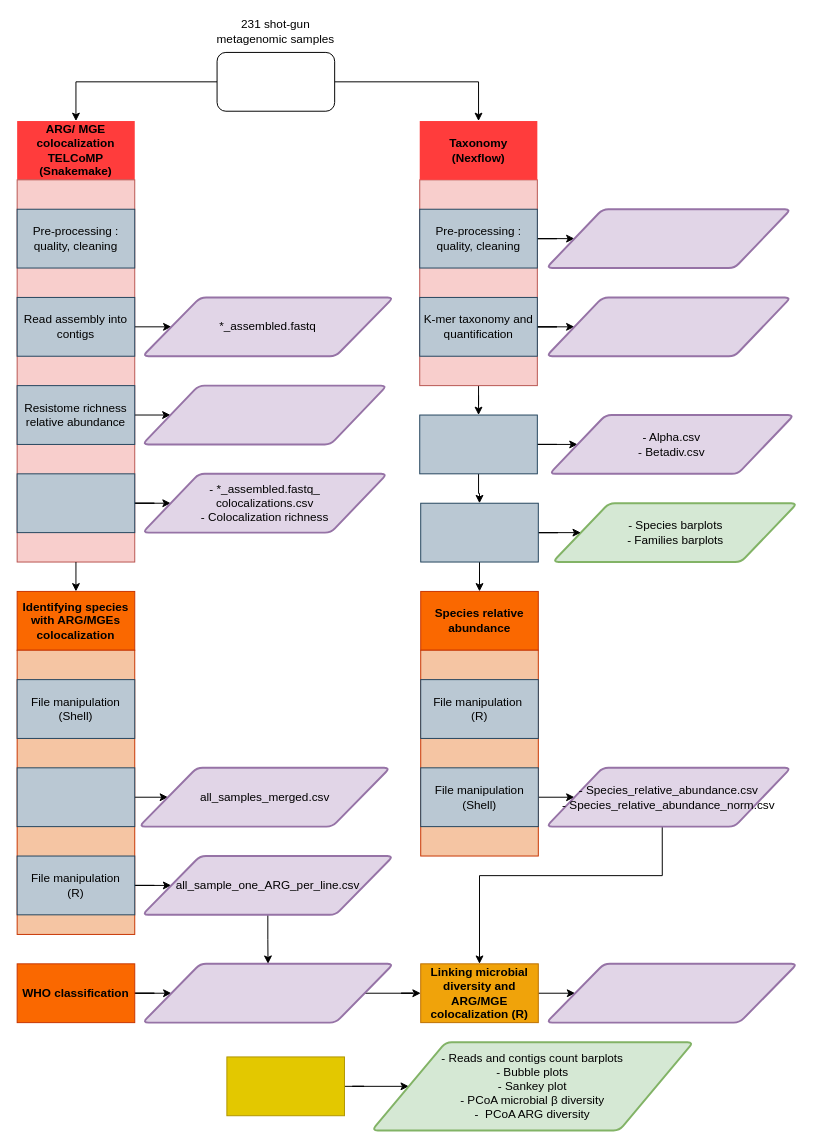
Some shapes in this 815 by 1148 pixel diagram are drawn without their labels. The shapes that lost their labels are listed below. From the top down, each one's centre as x and y in pixels, then its label:
At point 275,81: "Paired Fastq Short-reads".
At point 668,238: "HTML quality report".
At point 668,326: "- Kraken report - Braken report - read_classified_kraken.csv".
At point 264,414: "- Resistome Features (CSV) - Resistome Richness (CSV) - Mobilome (CSV)".
At point 478,444: "ɑ and β microbial diversity".
At point 75,503: "Identifying ARG/MGE colocalization and calculating richness".
At point 479,532: "Barplots generation".
At point 75,797: "BLAST".
At point 267,992: "contig_arg_classif.csv".
At point 671,992: "- joint_relativ.csv - joint_norm.csv".
At point 285,1086: "Figure Generation".
